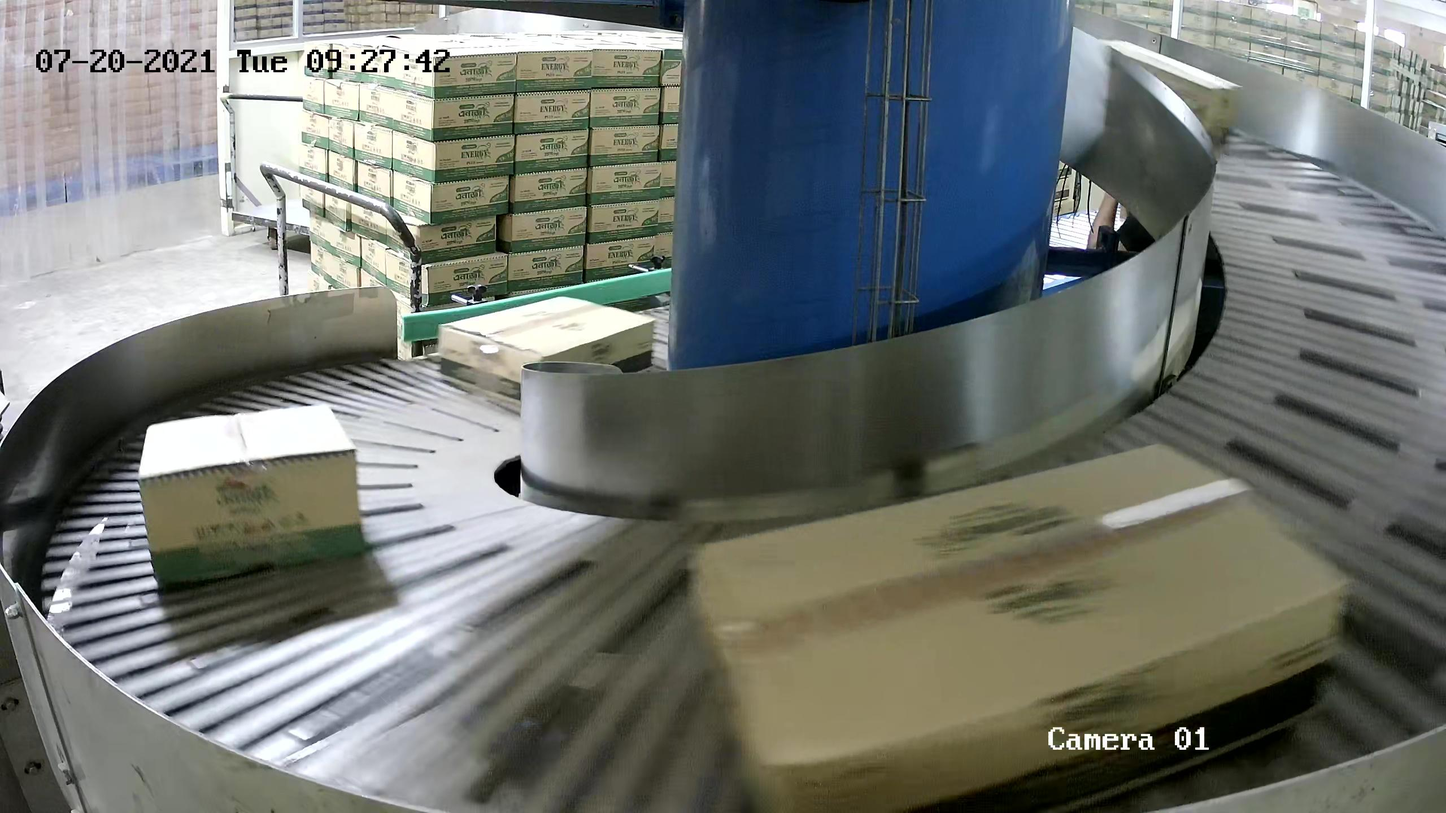Box: (682, 434, 1360, 813), (135, 399, 365, 593), (437, 294, 656, 407), (1097, 35, 1248, 148)
